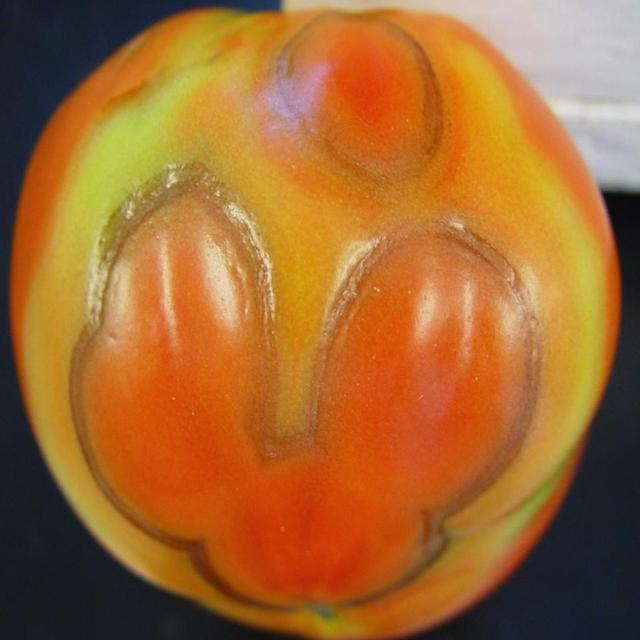Spotted wilt Virus Fruit: (6, 5, 413, 426)
